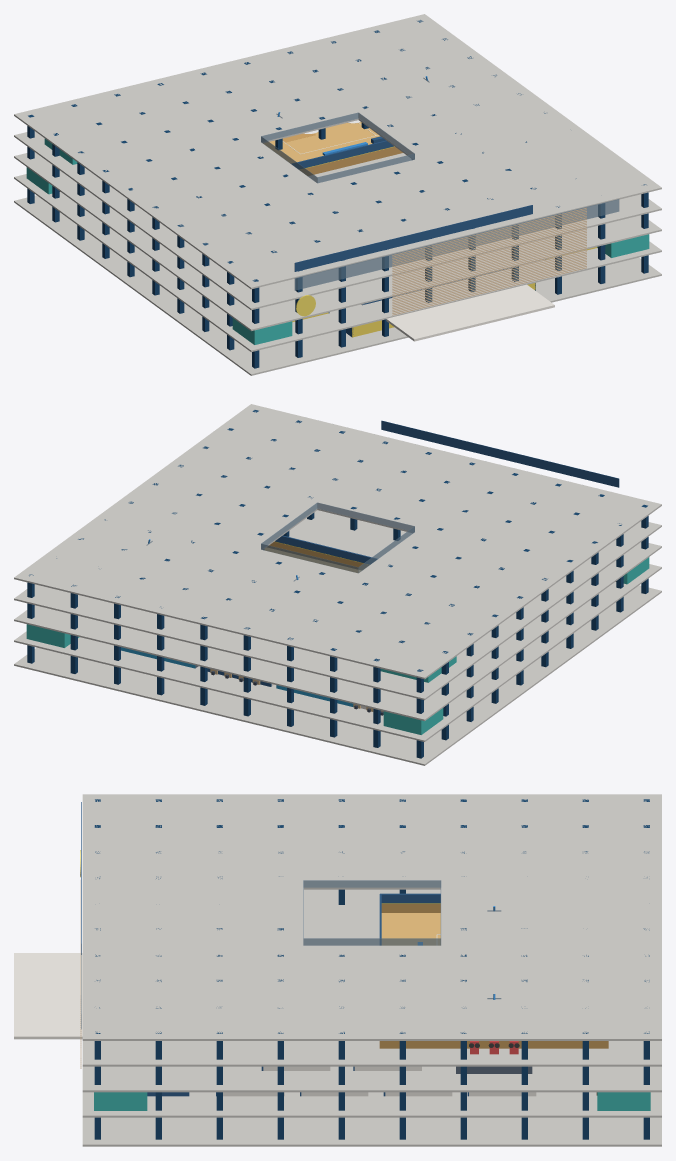
The model's file is npc_campus_blender.glb.
3 views of the same model, one above another, from view 1: azimuth 30°, elevation 25°; view 2: azimuth 150°, elevation 25°; view 3: azimuth 270°, elevation 25° (orthographic). The views are drawn at different scales.
Visible parts, largest first — view 1: Floor_RD_Slab, Floor_4F_Slab, Floor_3F_Slab, Floor_1F_Slab, Floor_2F_Slab, Entrance_Canopy, Clerestory_Ribbon_Glass, Signage_Panel, ROOM_FLOOR_4F-GYM, GYM_WALL_OAK_S, GYM_WALL_NAVY_S, Atrium_Rail_S_15.3 (+3 smaller); view 2: Floor_RD_Slab, Floor_4F_Slab, Floor_1F_Slab, Floor_3F_Slab, Floor_2F_Slab, Signage_Panel, GYM_WALL_NAVY_S, GYM_WALL_OAK_S, Atrium_Rail_N_15.3, Atrium_Rail_S_15.3, ROOM_WALLS_2F-CR-NE_0, ROOM_WALLS_2F-CR-NW_0; view 3: Floor_RD_Slab, Floor_4F_Slab, Floor_1F_Slab, Floor_3F_Slab, Floor_2F_Slab, Entrance_Canopy, ROOM_FLOOR_4F-GYM, GYM_WALL_OAK_E, Atrium_Rail_E_15.3, Atrium_Rail_W_15.3, ROOM_WALLS_2F-CR-SE_2, ROOM_WALLS_2F-CR-NE_2 (+11 smaller).
Boxes of the visible parts, x1=… form: Floor_RD_Slab: x1=14, y1=14, x2=661, y2=289; Floor_4F_Slab: x1=14, y1=131, x2=661, y2=310; Floor_3F_Slab: x1=14, y1=152, x2=661, y2=331; Floor_1F_Slab: x1=14, y1=195, x2=661, y2=375; Floor_2F_Slab: x1=14, y1=174, x2=661, y2=351; Entrance_Canopy: x1=386, y1=284, x2=554, y2=341; Clerestory_Ribbon_Glass: x1=294, y1=199, x2=619, y2=290; Signage_Panel: x1=294, y1=205, x2=532, y2=271; ROOM_FLOOR_4F-GYM: x1=263, y1=122, x2=380, y2=163; GYM_WALL_OAK_S: x1=300, y1=147, x2=402, y2=175; GYM_WALL_NAVY_S: x1=292, y1=140, x2=393, y2=169; Atrium_Rail_S_15.3: x1=317, y1=153, x2=414, y2=183; Floor_RD_Slab: x1=14, y1=404, x2=661, y2=679; Floor_4F_Slab: x1=14, y1=510, x2=661, y2=700; Floor_1F_Slab: x1=14, y1=585, x2=661, y2=765; Floor_3F_Slab: x1=14, y1=542, x2=661, y2=721; Floor_2F_Slab: x1=14, y1=564, x2=661, y2=741; Signage_Panel: x1=381, y1=420, x2=619, y2=487; GYM_WALL_NAVY_S: x1=275, y1=535, x2=377, y2=564; GYM_WALL_OAK_S: x1=267, y1=542, x2=368, y2=569; Atrium_Rail_N_15.3: x1=261, y1=543, x2=358, y2=573; Atrium_Rail_S_15.3: x1=317, y1=502, x2=414, y2=531; ROOM_WALLS_2F-CR-NE_0: x1=26, y1=624, x2=65, y2=647; ROOM_WALLS_2F-CR-NW_0: x1=383, y1=711, x2=421, y2=734; Floor_RD_Slab: x1=82, y1=794, x2=661, y2=1040; Floor_4F_Slab: x1=82, y1=889, x2=661, y2=1066; Floor_1F_Slab: x1=82, y1=1117, x2=661, y2=1146; Floor_3F_Slab: x1=82, y1=1066, x2=661, y2=1092; Floor_2F_Slab: x1=82, y1=1092, x2=661, y2=1117; Entrance_Canopy: x1=14, y1=953, x2=82, y2=1039; ROOM_FLOOR_4F-GYM: x1=381, y1=913, x2=440, y2=945; GYM_WALL_OAK_E: x1=380, y1=1041, x2=608, y2=1048; Atrium_Rail_E_15.3: x1=303, y1=938, x2=440, y2=945; Atrium_Rail_W_15.3: x1=304, y1=880, x2=440, y2=887; ROOM_WALLS_2F-CR-SE_2: x1=94, y1=1092, x2=147, y2=1110; ROOM_WALLS_2F-CR-NE_2: x1=597, y1=1092, x2=650, y2=1110.
Size of the model in its own units: 76 by 18.18 by 85.
